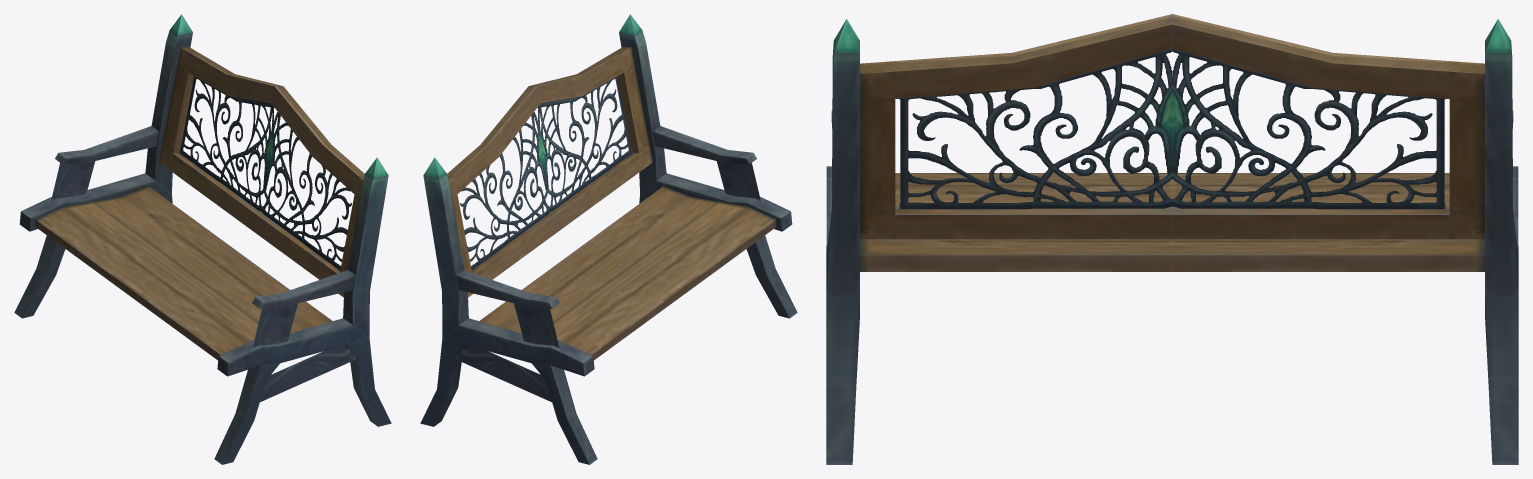
Rendered from zhucheng_yizi.FBX.
3 views of the same model, side by side, from view 1: azimuth 30°, elevation 25°; view 2: azimuth 150°, elevation 25°; view 3: azimuth 270°, elevation 25° (orthographic). The views are drawn at different scales.
Parts seen in each view (by area): view 1: zhucheng_yizi, zhucheng_yizidian; view 2: zhucheng_yizi, zhucheng_yizidian; view 3: zhucheng_yizi, zhucheng_yizidian.
Part boxes in pixels (<box>): zhucheng_yizi: <box>14,14,391,464</box>; zhucheng_yizidian: <box>179,76,351,270</box>; zhucheng_yizi: <box>420,14,797,464</box>; zhucheng_yizidian: <box>460,76,632,270</box>; zhucheng_yizi: <box>826,14,1518,464</box>; zhucheng_yizidian: <box>899,49,1445,209</box>.
Bounding box in the file's own units: 46.87 × 99.58 × 69.84.
